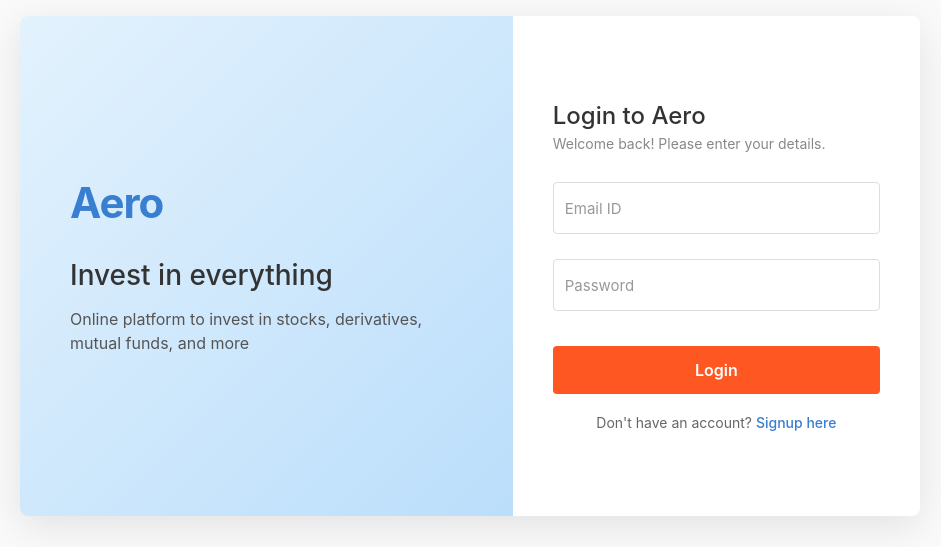
Login component › failed login displays error message
Type "user@test.com" into the field at (716, 208), box [553, 182, 880, 234]
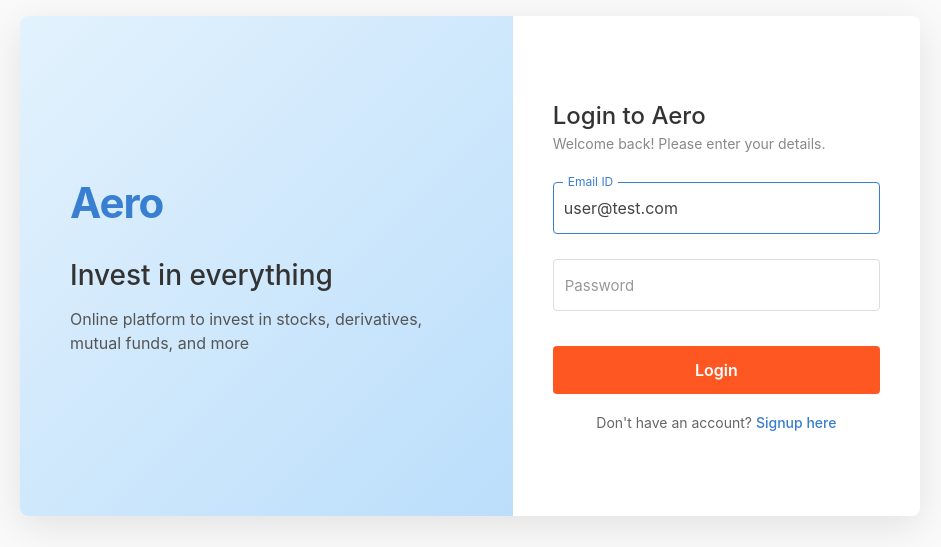
Type "wrongpass" into the password field at (716, 285), box [553, 259, 880, 311]
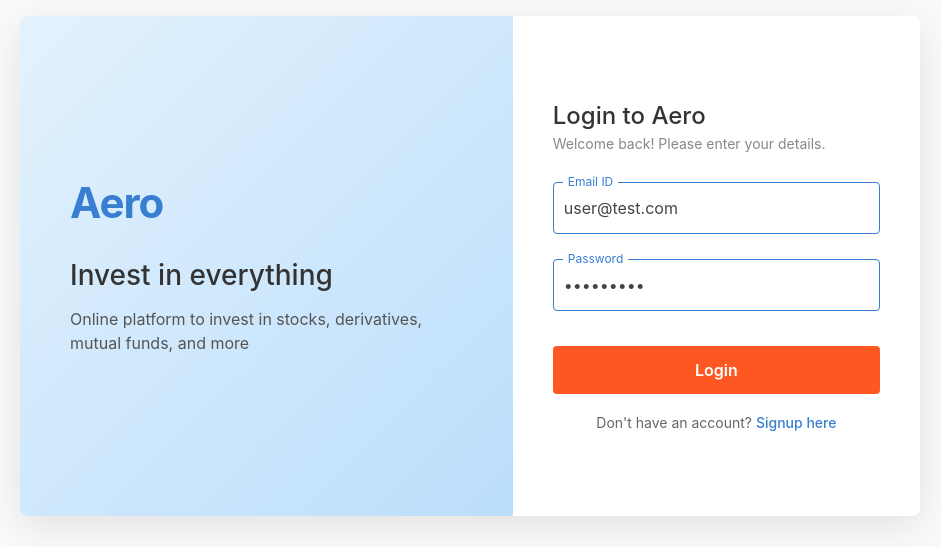
Click the button "Login" at (716, 370), box [553, 346, 880, 394]
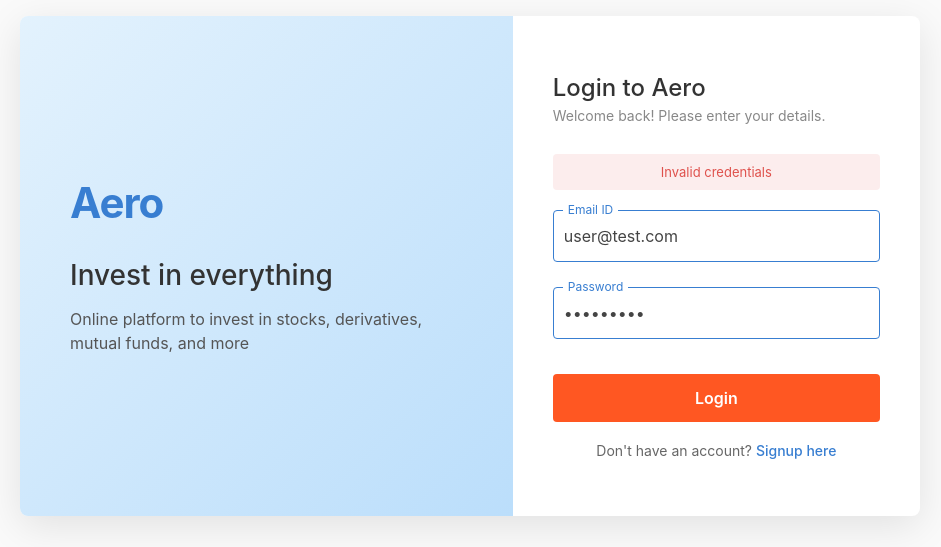
Now the text "Invalid credentials" is shown, box [553, 154, 880, 190]
